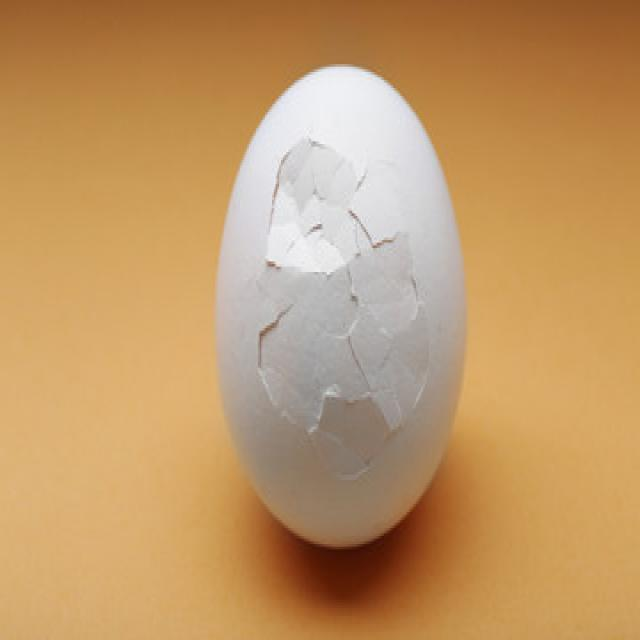biodegradable: (214, 31, 472, 578)
